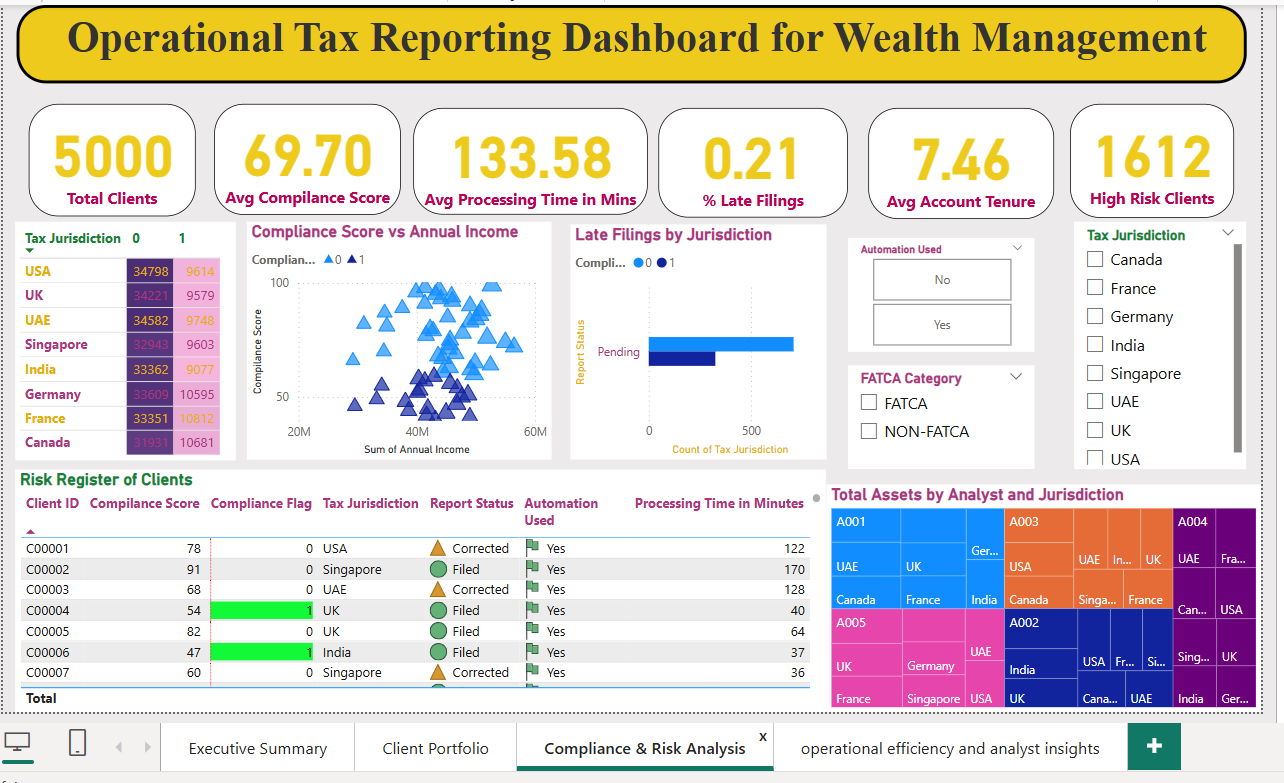

Layout of this report page (visuals, bound fields, positions):
{"tool":"powerbi","page":{"name":"Compliance & Risk Analysis","canvas":[1280,720],"ordinal":2},"visuals":[{"type":"textbox","box":[13.3,0,1251.5,79.8],"z":0},{"type":"card","fields":{"Values":["ClientData.High Risk Clients"]},"box":[1085.8,100.6,166.7,115.7],"z":1000},{"type":"card","fields":{"Values":["Avg(tax_compliance_dataset_5000.Compilance Score)"]},"box":[214.9,100.6,190.1,113],"z":2000},{"type":"card","fields":{"Values":["CountNonNull(tax_compliance_dataset_5000.Client ID)"]},"box":[26.2,100.6,169.5,114.4],"z":3000},{"type":"card","fields":{"Values":["ClientData.% Late Filings"]},"box":[666.9,104.7,192.9,111.6],"z":4000},{"type":"card","fields":{"Values":["Avg(ClientData.Account Tenure)"]},"box":[880.5,104.7,188.8,113],"z":5000},{"type":"pivotTable","fields":{"Rows":["ClientData.Tax  Jurisdiction"],"Columns":["ClientData.Compliance Flag"],"Values":["Sum(ClientData.Compilance Score)"]},"box":[12.9,220,224.3,242.9],"z":6000},{"type":"card","fields":{"Values":["Avg(ClientData.Processing Time in Minutes)"]},"box":[417.5,104.7,238.4,108.9],"z":7000},{"type":"clusteredBarChart","title":"Late Filings by Jurisdiction","fields":{"Y":["CountNonNull(ClientData.Tax  Jurisdiction)"],"Category":["ClientData.Report Status"],"Series":["ClientData.Compliance Flag"]},"box":[576.8,223.2,260.9,239.1],"z":8000},{"type":"scatterChart","title":"Compliance Score vs Annual Income","fields":{"X":["Sum(ClientData.Annual Income)"],"Y":["ClientData.Compilance Score"],"Size":["Sum(ClientData.Total Assets)"],"Series":["ClientData.Compliance Flag"]},"box":[247.8,220.3,310.1,242],"z":9000},{"type":"tableEx","title":"Risk Register of Clients","fields":{"Values":["ClientData.Client ID","ClientData.Compilance Score","ClientData.Compliance Flag","ClientData.Tax  Jurisdiction","ClientData.Report Status","ClientData.Automation Used","ClientData.Processing Time in Minutes"]},"box":[13,472.5,824.6,247.8],"z":10000},{"type":"slicer","fields":{"Values":["ClientData.Tax  Jurisdiction"]},"box":[1089.9,220.3,175.4,252.2],"z":11000},{"type":"slicer","fields":{"Values":["ClientData.Automation Used"]},"box":[859.4,237.7,189.9,115.9],"z":12000},{"type":"slicer","fields":{"Values":["ClientData.FATCA Category"]},"box":[859.4,366.7,189.9,105.8],"z":13000},{"type":"treemap","title":"Total Assets by Analyst and Jurisdiction","fields":{"Group":["ClientData.Analyst ID"],"Details":["ClientData.Tax  Jurisdiction"],"Values":["Sum(ClientData.Total Assets)"]},"box":[837.7,488.4,442,231.9],"z":14000}]}

Visuals, with their boxes on the page's 1280x720 design canvas (x1, y1, x2, y2). These are canvas units, not pixel positions in the 1284x783 screenshot, which may show the page scaled, cropped or inside an application window:
textbox: pyautogui.locateOnScreen(13, 0, 1265, 80)
card - ClientData.High Risk Clients: pyautogui.locateOnScreen(1086, 101, 1252, 216)
card - Avg(tax_compliance_dataset_5000.Compilance Score): pyautogui.locateOnScreen(215, 101, 405, 214)
card - CountNonNull(tax_compliance_dataset_5000.Client ID): pyautogui.locateOnScreen(26, 101, 196, 215)
card - ClientData.% Late Filings: pyautogui.locateOnScreen(667, 105, 860, 216)
card - Avg(ClientData.Account Tenure): pyautogui.locateOnScreen(880, 105, 1069, 218)
pivotTable - ClientData.Tax  Jurisdiction x ClientData.Compliance Flag: pyautogui.locateOnScreen(13, 220, 237, 463)
card - Avg(ClientData.Processing Time in Minutes): pyautogui.locateOnScreen(418, 105, 656, 214)
"Late Filings by Jurisdiction" clusteredBarChart: pyautogui.locateOnScreen(577, 223, 838, 462)
"Compliance Score vs Annual Income" scatterChart: pyautogui.locateOnScreen(248, 220, 558, 462)
"Risk Register of Clients" tableEx: pyautogui.locateOnScreen(13, 472, 838, 720)
slicer - ClientData.Tax  Jurisdiction: pyautogui.locateOnScreen(1090, 220, 1265, 472)
slicer - ClientData.Automation Used: pyautogui.locateOnScreen(859, 238, 1049, 354)
slicer - ClientData.FATCA Category: pyautogui.locateOnScreen(859, 367, 1049, 472)
"Total Assets by Analyst and Jurisdiction" treemap: pyautogui.locateOnScreen(838, 488, 1280, 720)
